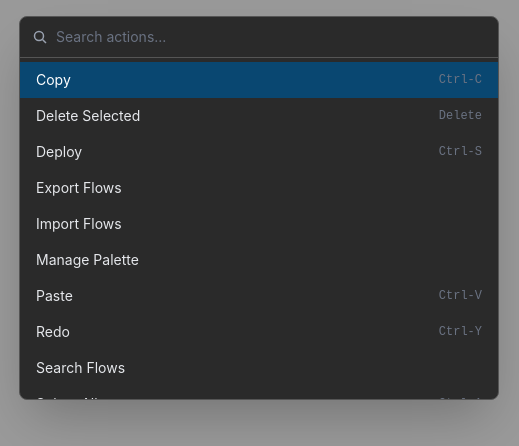
Test: ActionList › filtering › shows no results message when nothing matches
The width and height of the screenshot is (519, 446).
In the field with test id "action-list-input": [271, 37] box [56, 17, 486, 57], type "zzzzz"
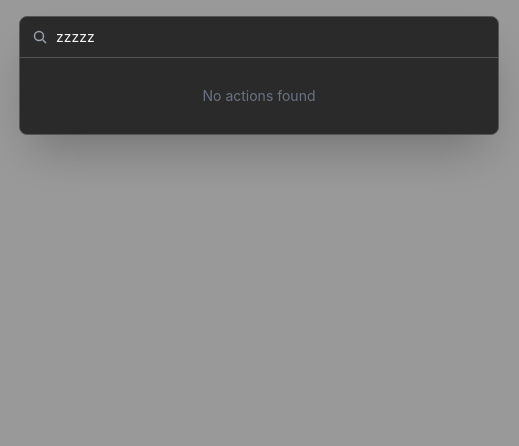
Expected: the text "No actions found" is shown, [202, 87, 316, 104]
